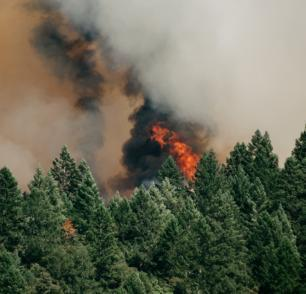fire: (150, 122, 199, 181)
